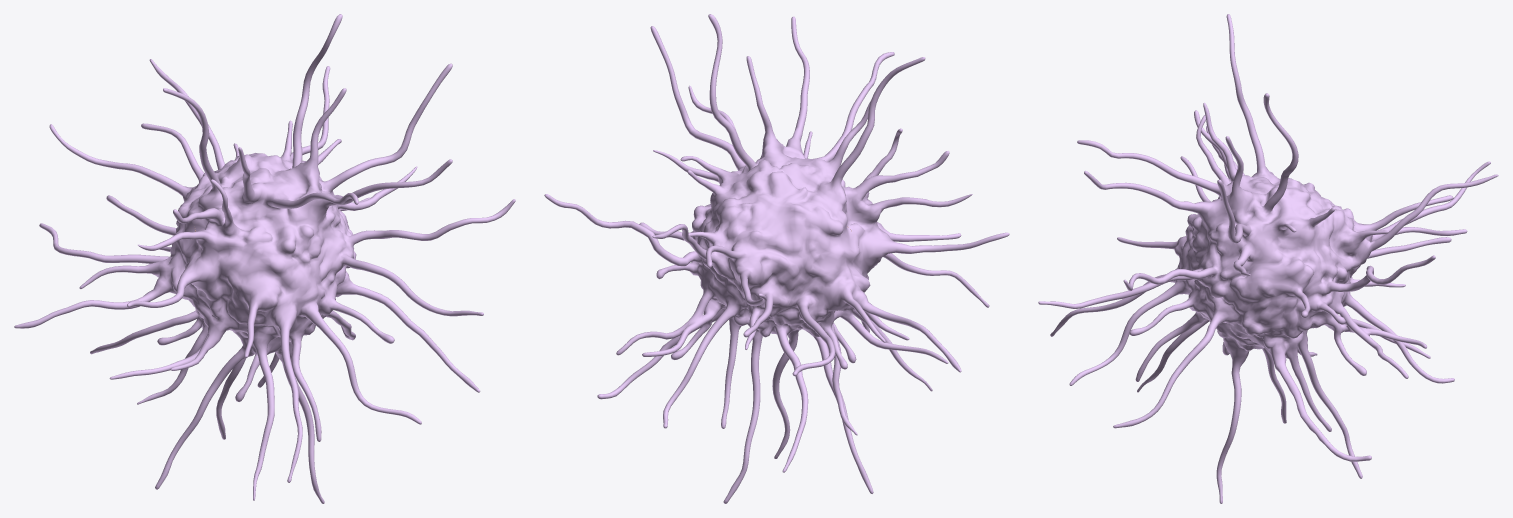
3 views of the same model, side by side, from view 1: azimuth 30°, elevation 25°; view 2: azimuth 150°, elevation 25°; view 3: azimuth 270°, elevation 25° (orthographic). The views are drawn at different scales.
Parts seen in each view (by area): view 1: DendriticCell_Membrane; view 2: DendriticCell_Membrane; view 3: DendriticCell_Membrane.
Part boxes in pixels (x1,y1,x2,y2): DendriticCell_Membrane: [14, 14, 515, 503]; DendriticCell_Membrane: [544, 14, 1009, 503]; DendriticCell_Membrane: [1038, 14, 1498, 503].
Size of what is drawn, in the model's own units: 0.4419 by 0.5 by 0.4858.
